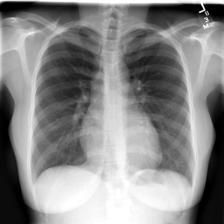normal: (26, 24, 196, 188)
